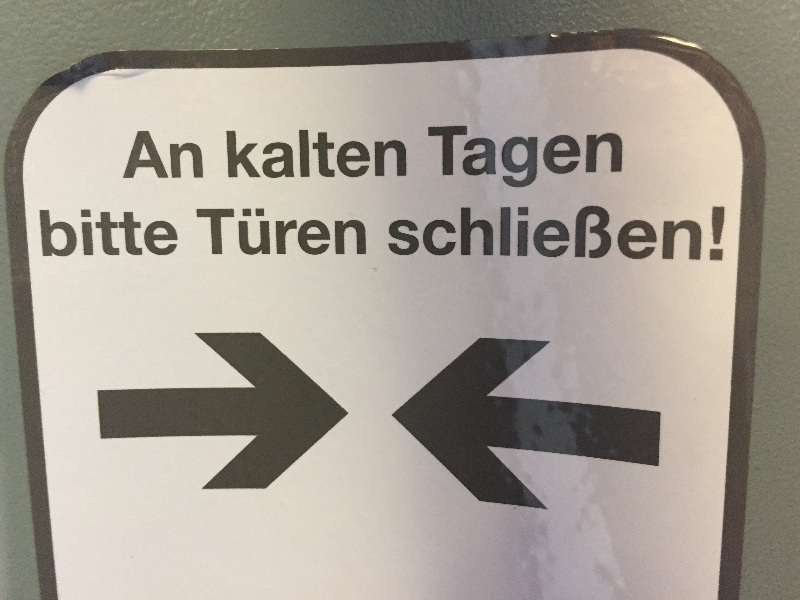text: (433, 123, 448, 202), (449, 123, 464, 202), (465, 123, 480, 202), (481, 123, 496, 202), (497, 123, 512, 202), (513, 123, 528, 202), (529, 123, 544, 202), (545, 123, 560, 202), (561, 123, 576, 202), (577, 123, 592, 202), (593, 123, 608, 202), (609, 123, 624, 202), (401, 205, 416, 263), (417, 205, 432, 263), (433, 205, 448, 263), (449, 205, 464, 263), (465, 205, 480, 263), (481, 205, 496, 263), (497, 205, 512, 263), (513, 205, 528, 263), (529, 205, 544, 263), (545, 205, 560, 263), (561, 205, 576, 263), (577, 205, 592, 263), (593, 205, 608, 263), (609, 205, 624, 263), (625, 205, 640, 263), (641, 205, 656, 263), (657, 205, 672, 263), (673, 205, 688, 263), (689, 205, 704, 263), (705, 205, 720, 263), (241, 129, 256, 181), (257, 129, 272, 181), (273, 129, 288, 181), (289, 129, 304, 181), (305, 129, 320, 181), (321, 129, 336, 181), (337, 129, 352, 181), (353, 129, 368, 181), (369, 129, 384, 181), (385, 129, 400, 181), (49, 208, 64, 260), (65, 208, 80, 260), (81, 208, 96, 260), (97, 208, 112, 260), (113, 208, 128, 260), (129, 208, 144, 260), (145, 208, 160, 260), (161, 208, 176, 260), (145, 130, 160, 180), (161, 130, 176, 180), (177, 130, 192, 180), (209, 208, 224, 257), (225, 208, 240, 257), (241, 208, 256, 257), (257, 208, 272, 257), (273, 208, 288, 257), (289, 208, 304, 257), (305, 208, 320, 257), (321, 208, 336, 257), (337, 208, 352, 257), (226, 129, 240, 181), (353, 208, 366, 257), (193, 130, 205, 180), (390, 205, 400, 263), (197, 208, 208, 257), (38, 208, 48, 260), (401, 129, 408, 181), (428, 123, 432, 202), (138, 130, 144, 180), (721, 205, 726, 263), (177, 208, 179, 260)
